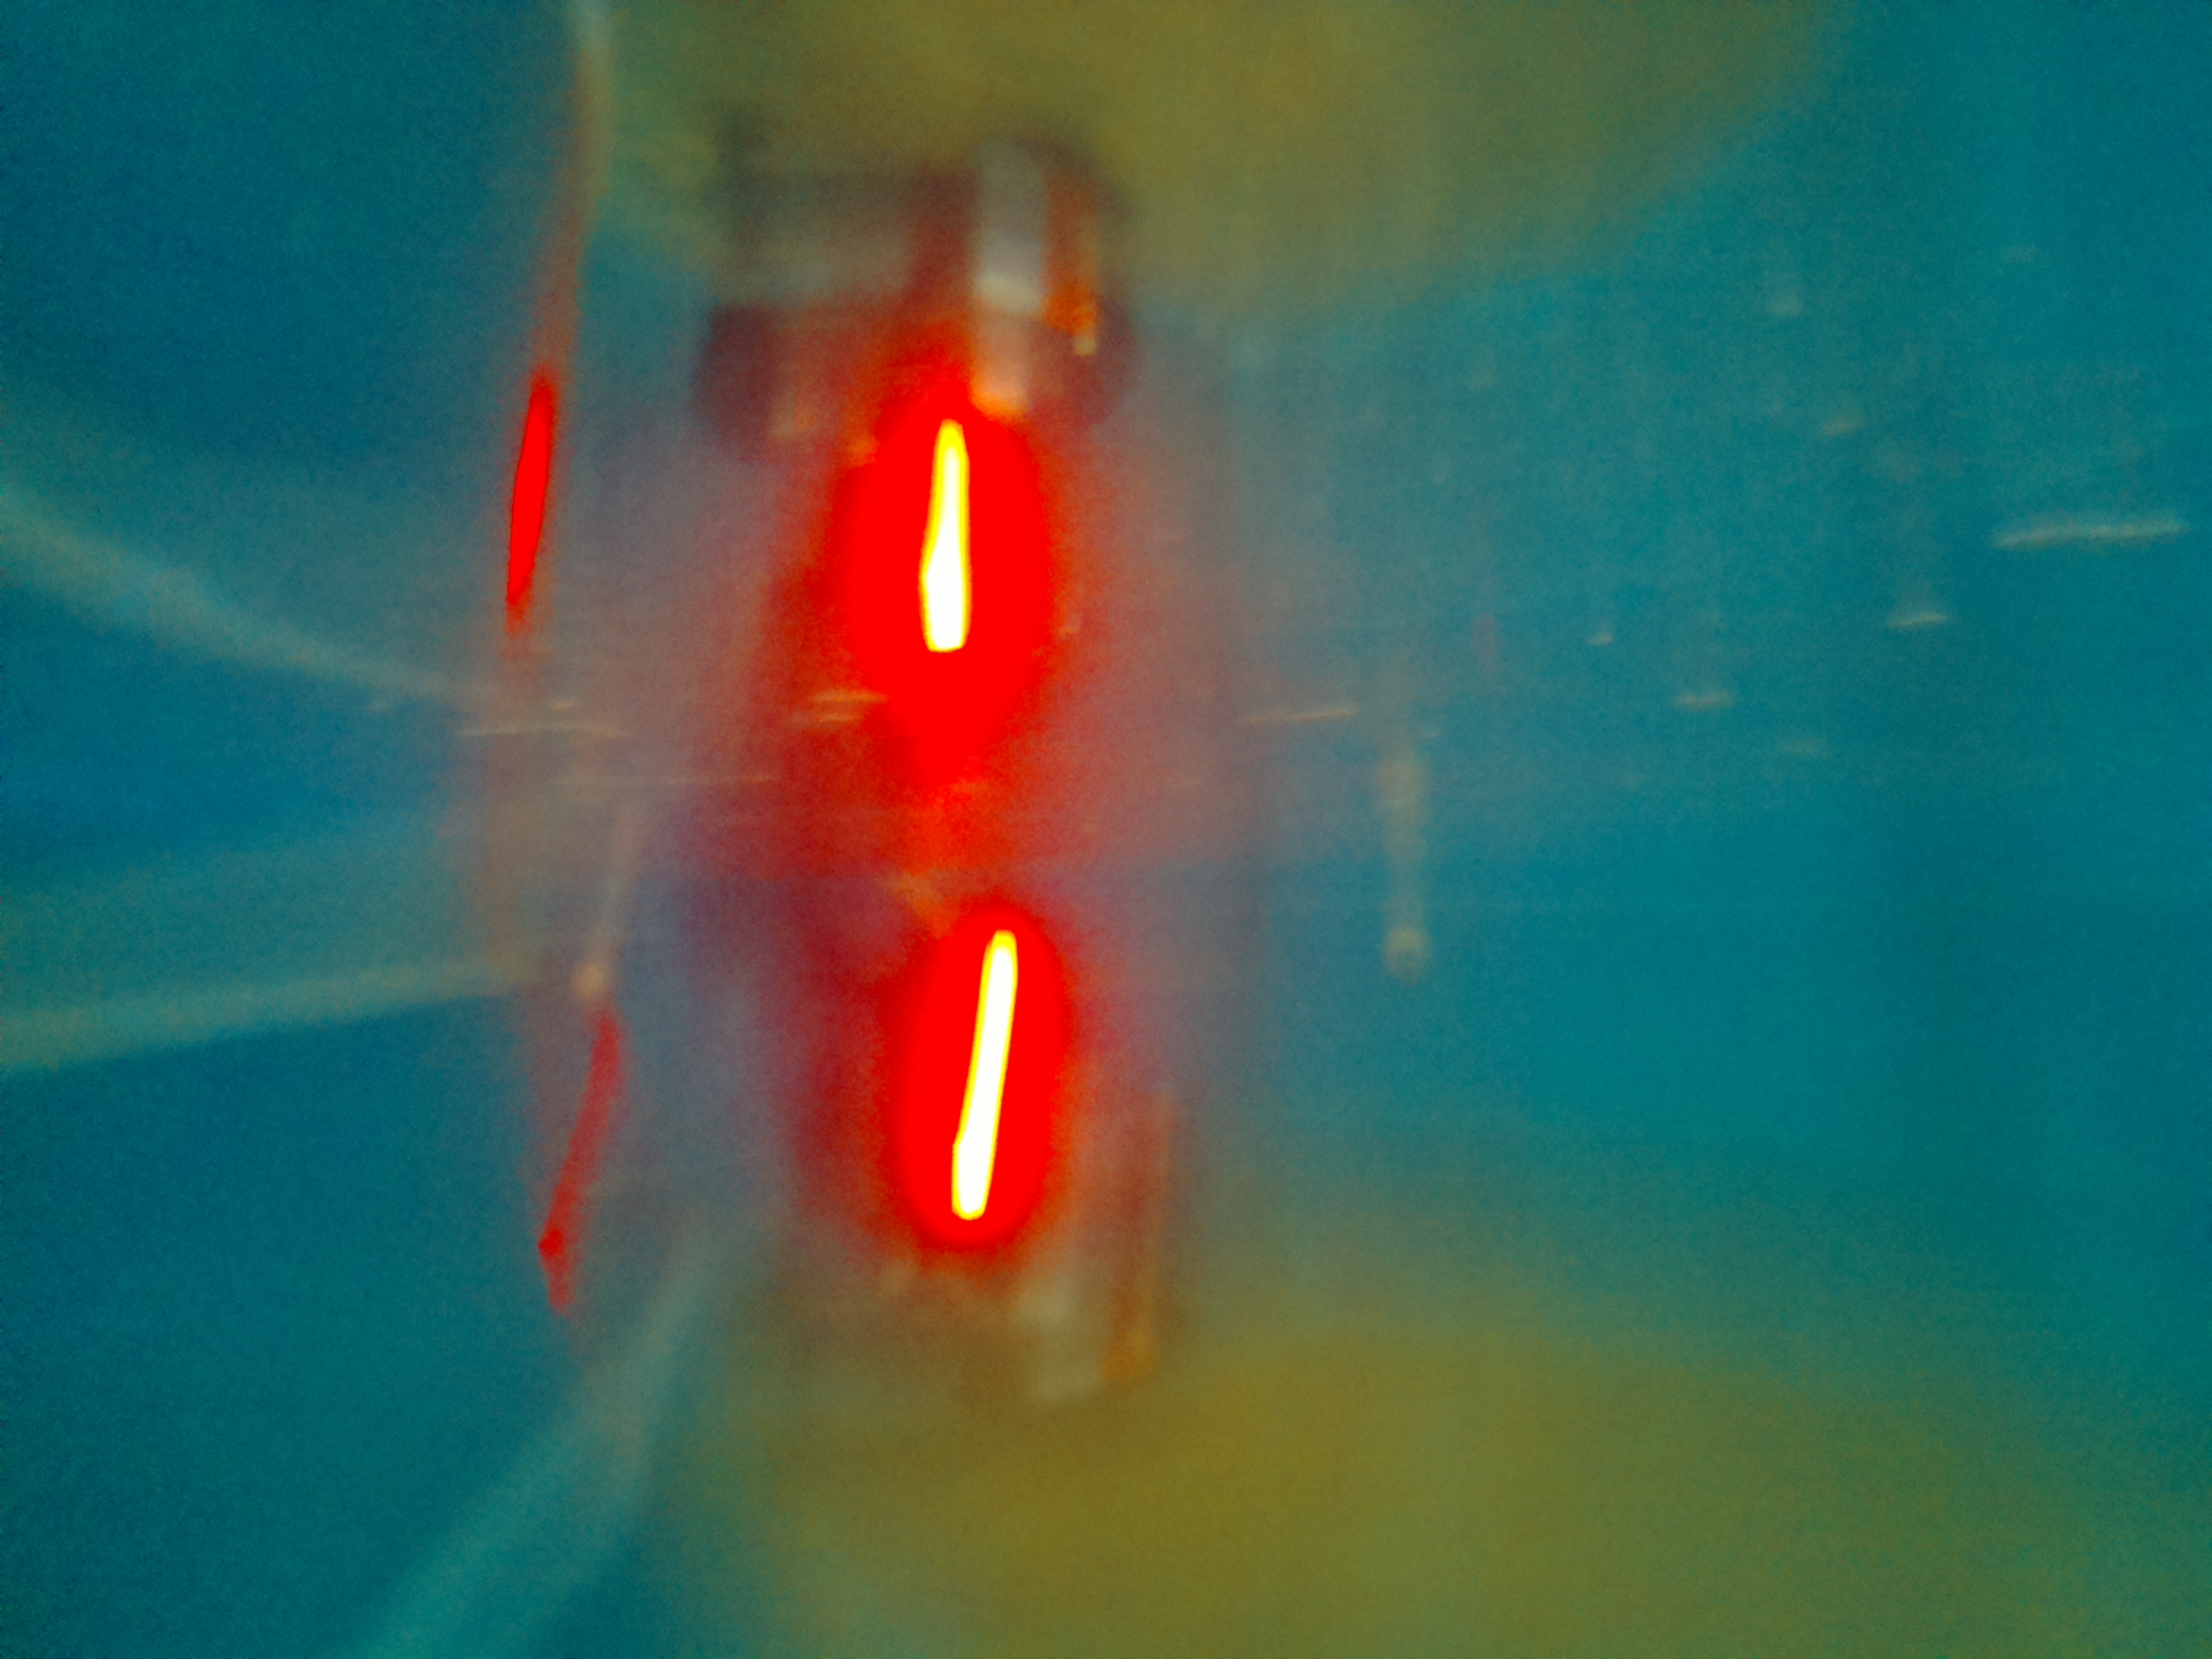red: (916, 924, 1033, 1237)
